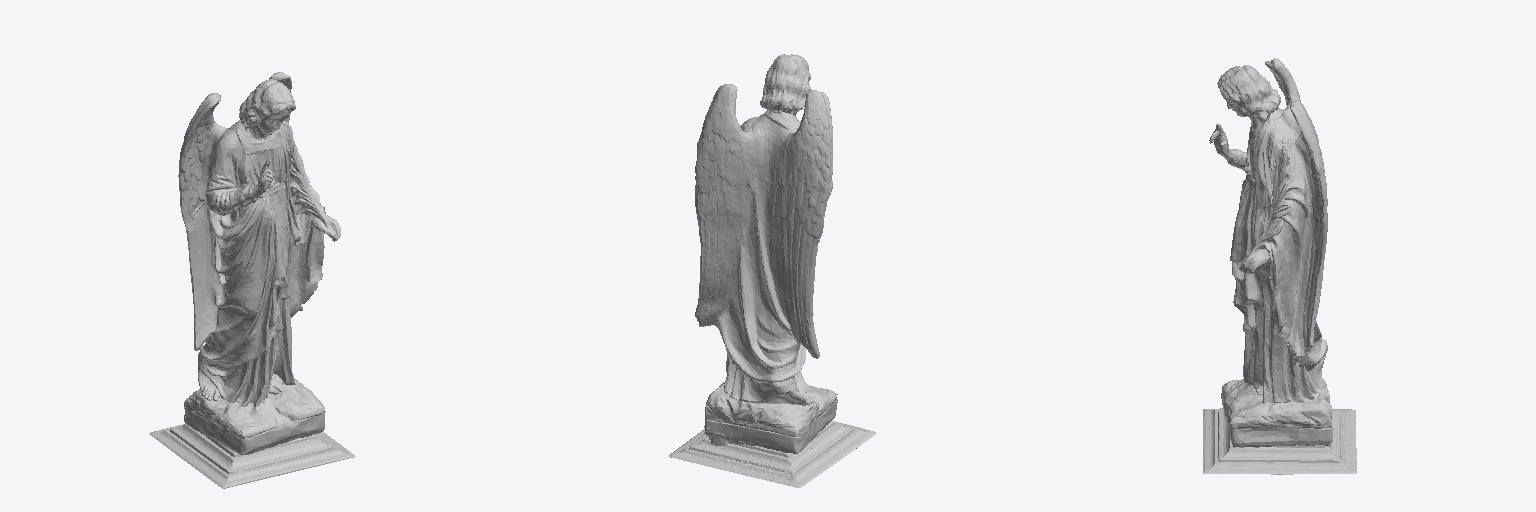
The model's file is angelLR2.obj.
3 renders of one model, left to right at view 1: azimuth 30°, elevation 25°; view 2: azimuth 150°, elevation 25°; view 3: azimuth 270°, elevation 25°, orthographic.
Parts seen in each view (by area): view 1: angel2_Model_6; view 2: angel2_Model_6; view 3: angel2_Model_6.
Part boxes in pixels (x1,y1,x2,y2): angel2_Model_6: (149, 72, 355, 488); angel2_Model_6: (669, 54, 876, 487); angel2_Model_6: (1203, 58, 1356, 474).
Size of the model in its own units: 11.97 by 30.15 by 11.18.